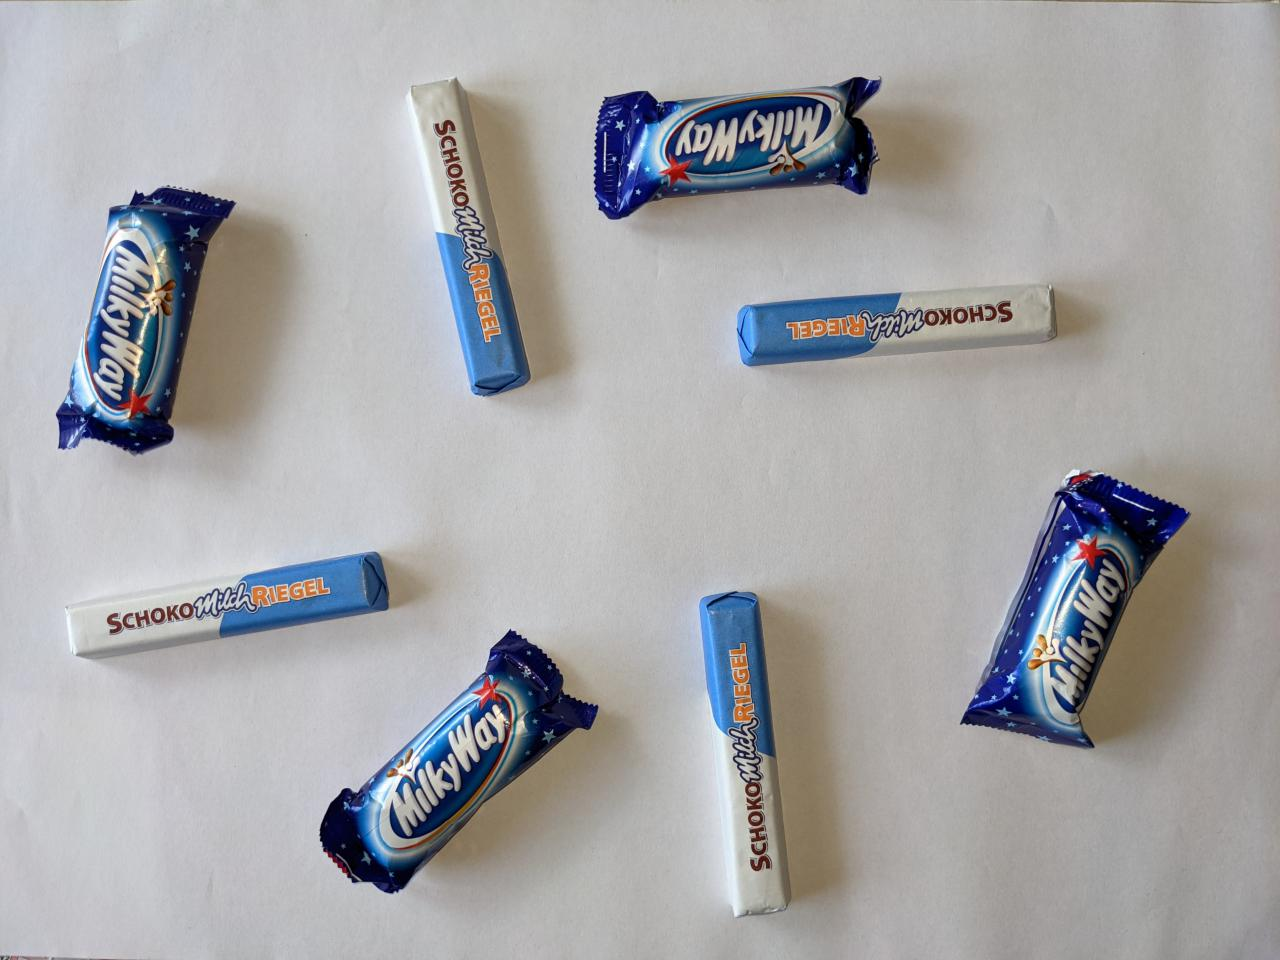MilkyWay: (310, 622, 610, 902), (953, 461, 1198, 756), (50, 179, 244, 463), (588, 67, 892, 227)
Schokoriegel: (399, 71, 536, 404), (57, 544, 394, 663), (691, 580, 797, 924), (726, 273, 1066, 374)
